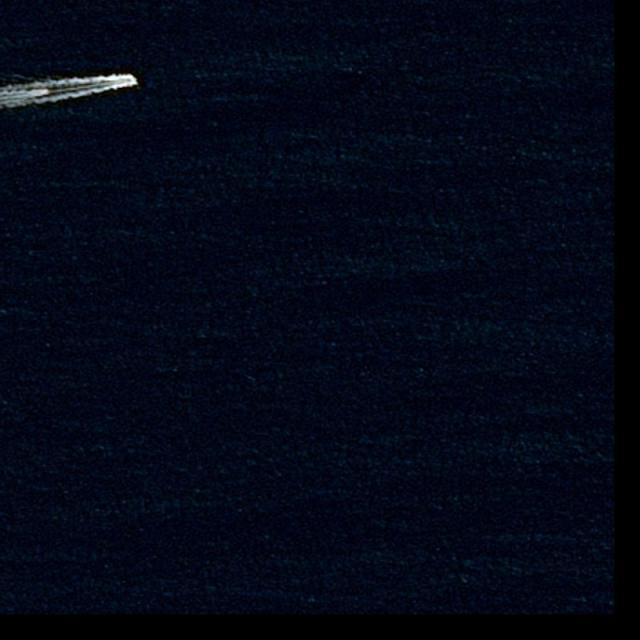ship: (111, 79, 132, 86)
